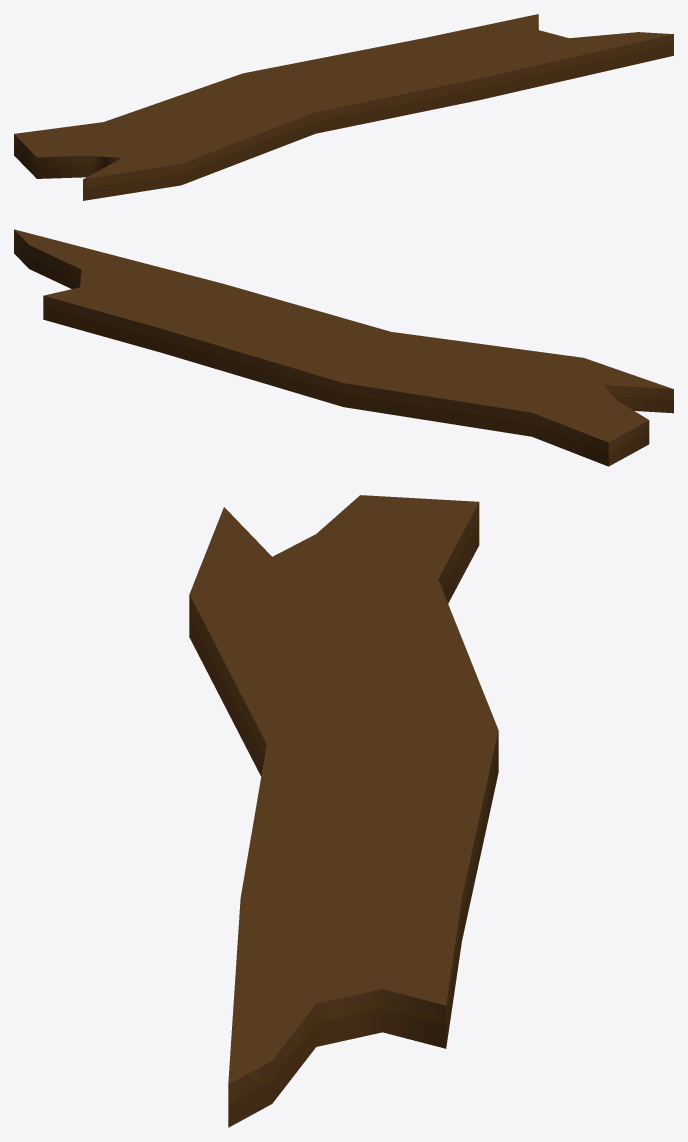
File: SM_FaultyPlank_003.fbx
The picture shows the model from 3 angles, top to bottom: view 1: azimuth 30°, elevation 25°; view 2: azimuth 150°, elevation 25°; view 3: azimuth 270°, elevation 25°; orthographic projection. The views are drawn at different scales.
Visible parts, largest first — view 1: SM_FaultyPlank_003; view 2: SM_FaultyPlank_003; view 3: SM_FaultyPlank_003.
Boxes of the visible parts, left/top/right/bottom form: SM_FaultyPlank_003: left=14, top=14, right=673, bottom=200; SM_FaultyPlank_003: left=14, top=229, right=673, bottom=466; SM_FaultyPlank_003: left=189, top=495, right=498, bottom=1127.
Size of the model in its own units: 49.39 by 1.69 by 10.94.
